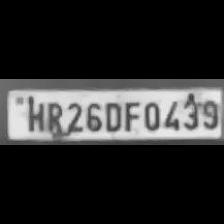0: (141, 99, 161, 131)
2: (62, 99, 82, 134)
3: (181, 95, 199, 131)
4: (162, 97, 180, 131)
6: (82, 100, 102, 132)
9: (200, 96, 220, 130)
D: (101, 98, 121, 132)
F: (121, 98, 139, 132)
H: (23, 97, 44, 132)
R: (45, 99, 63, 134)
